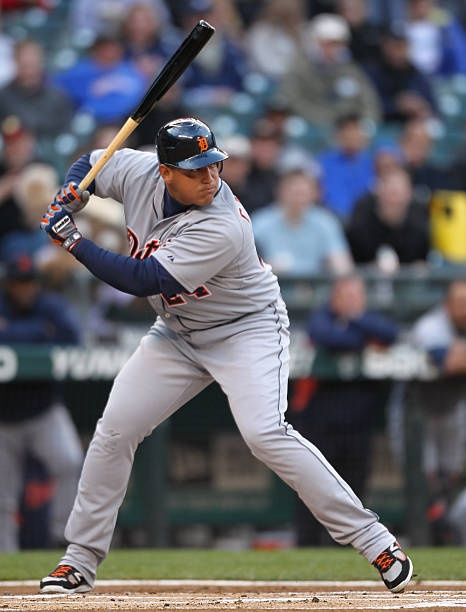bita: (62, 20, 217, 202)
